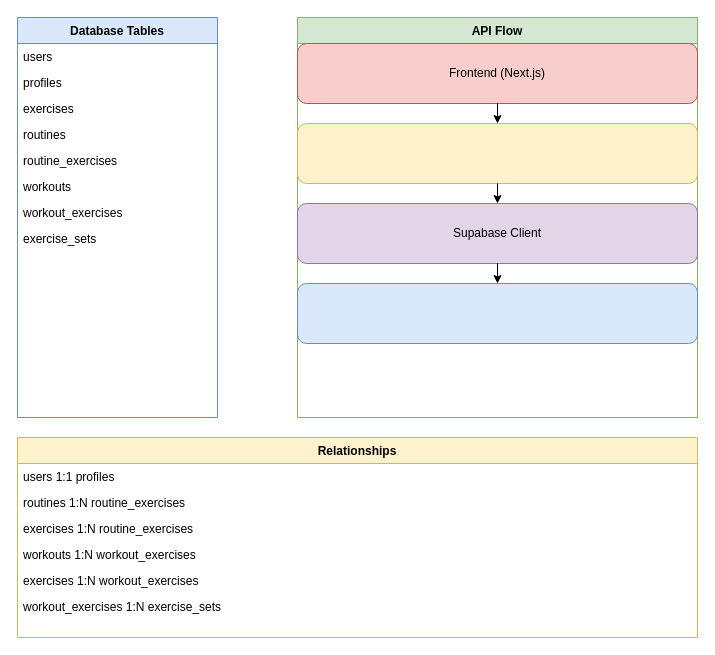
Some shapes in this 715 by 655 pixel diagram are drawn without their labels. The centre of each missing label's shape, as x and y in pixels:
API Routes: [497,153]
Supabase Database: [497,313]
